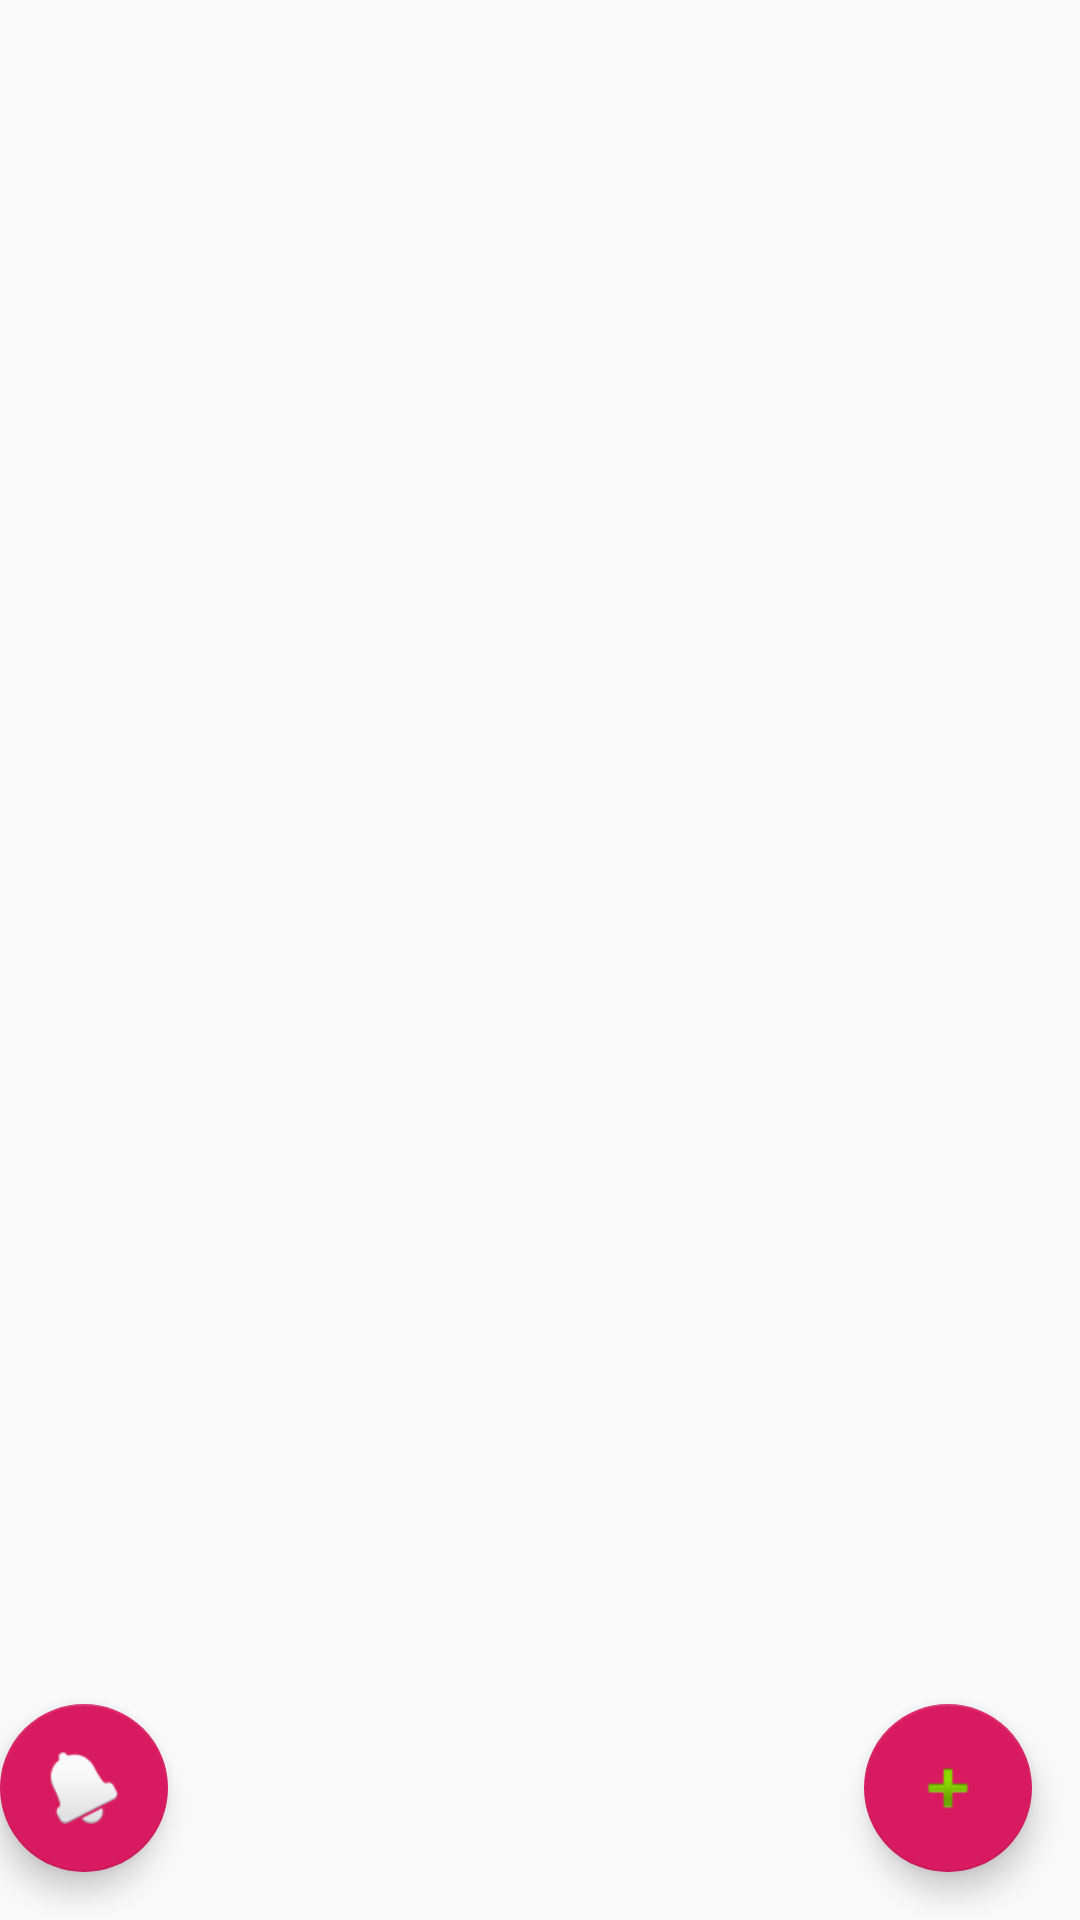

Named icons in this screenshot (1080x1920) and their bounding boxes, (x1, y1, x2, y2):
add: (864, 1704, 1032, 1872)
popup reminder: (0, 1704, 168, 1872)
